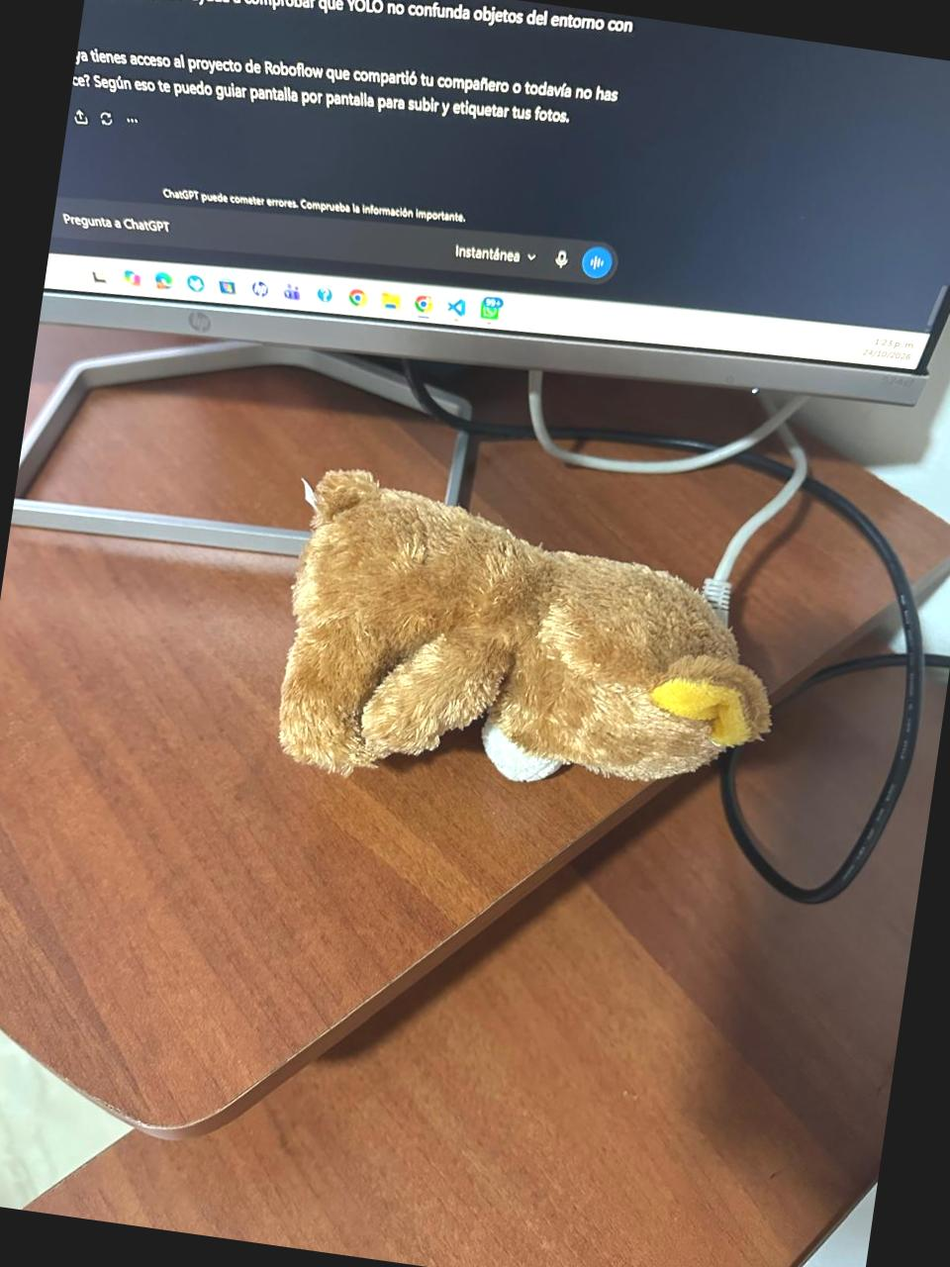peluche_sebastian: (263, 458, 803, 841)
